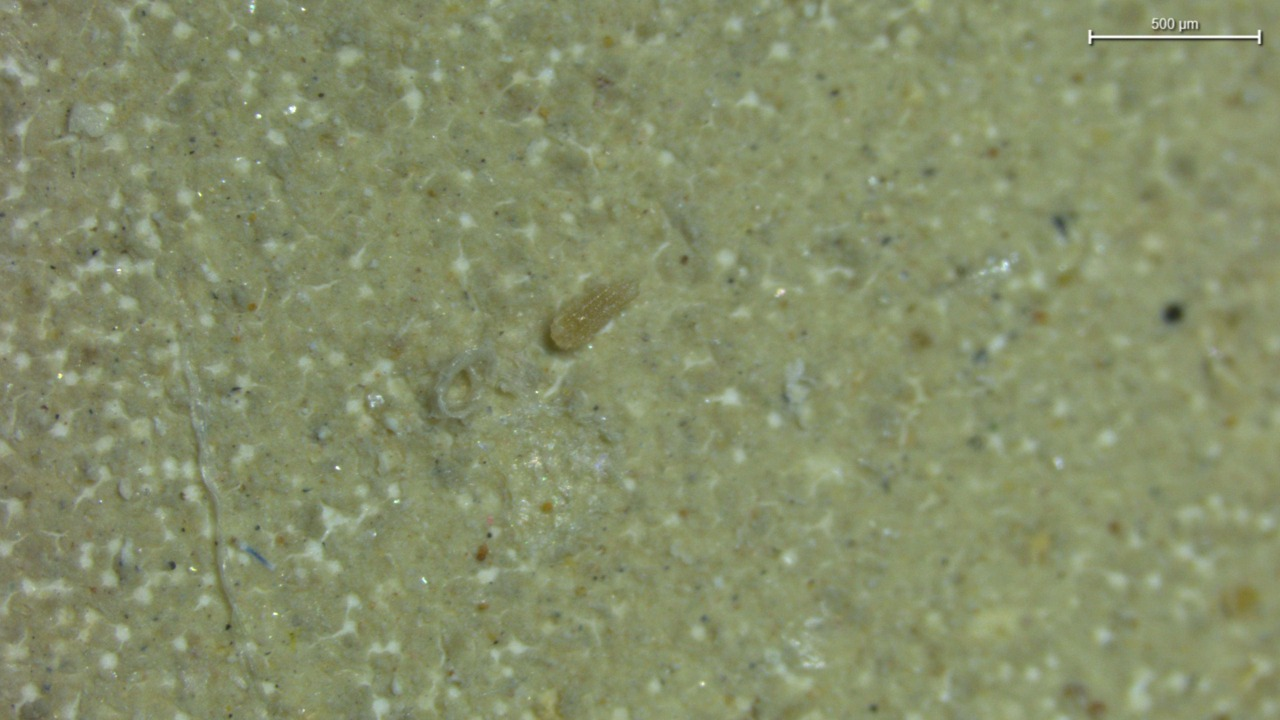microplastic_fragment: (547, 277, 639, 351), (432, 346, 495, 419)
